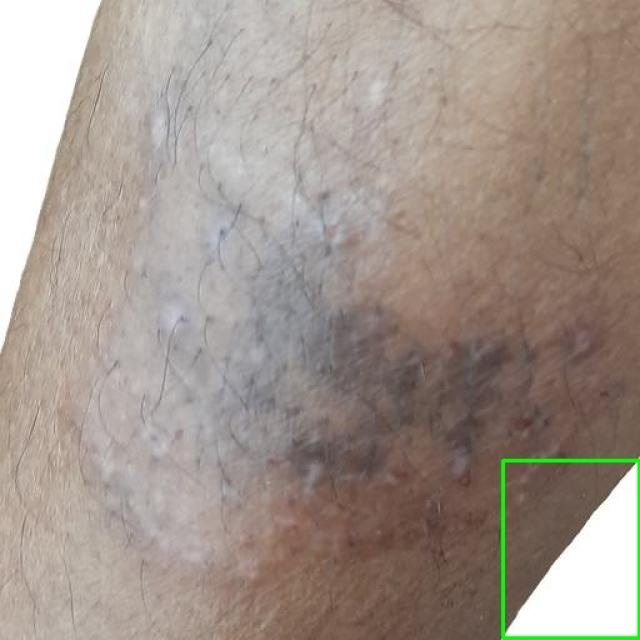Tinea Corporis: (502, 461, 639, 639)
